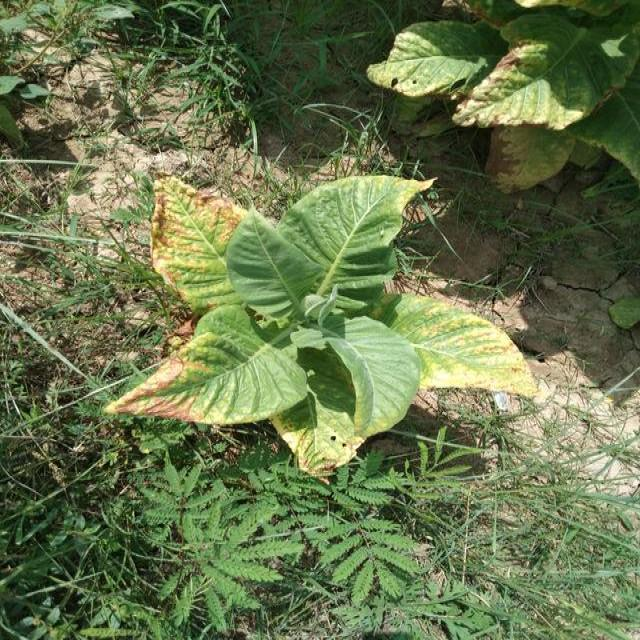crop: (115, 171, 532, 478)
